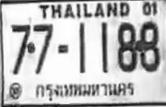1: (100, 22, 107, 72), (78, 22, 84, 72)
7: (9, 23, 32, 74), (32, 22, 53, 74)
8: (138, 20, 160, 71), (117, 22, 136, 71)
BKK: (33, 79, 136, 98)
